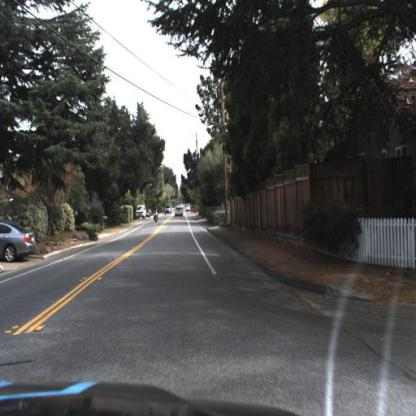biker: (152, 209, 160, 230)
car: (1, 218, 36, 264), (136, 202, 150, 223), (172, 204, 185, 220), (162, 203, 172, 217)
